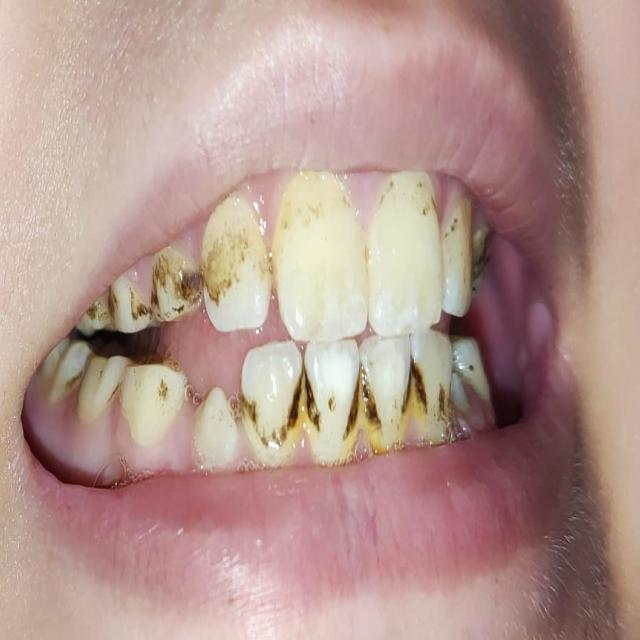tooth: (278, 166, 370, 334), (368, 167, 444, 328), (202, 206, 273, 330), (304, 342, 366, 463), (235, 359, 302, 442), (367, 342, 415, 441), (444, 205, 480, 320), (414, 330, 450, 428), (155, 250, 196, 322)
